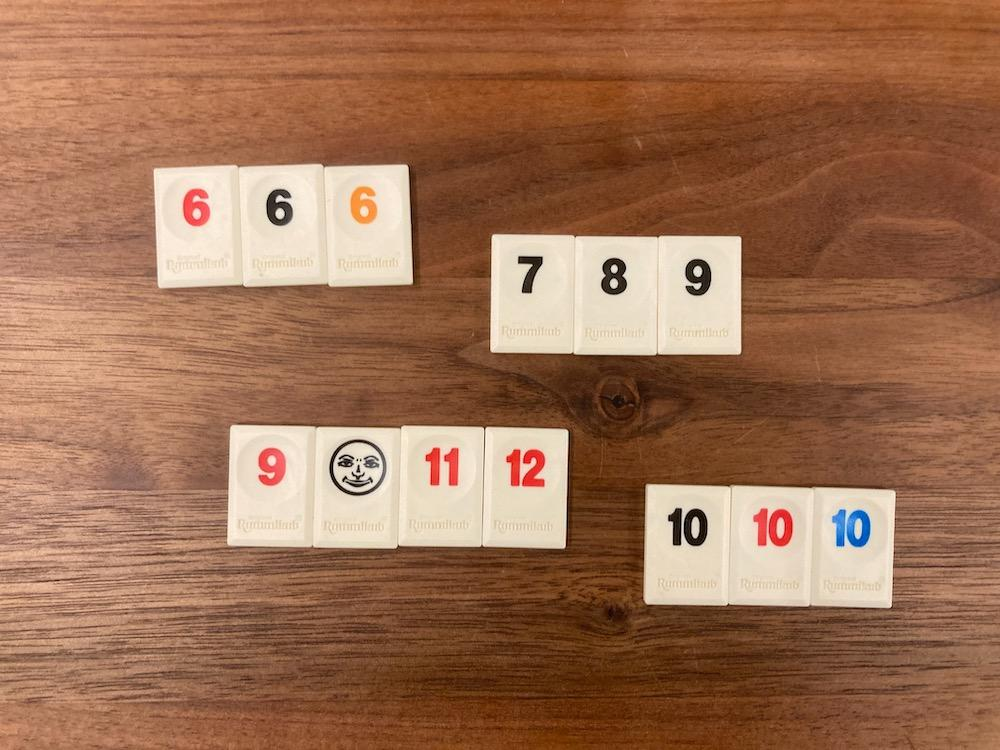black_10: (645, 484, 730, 605)
black_6: (240, 164, 328, 286)
black_7: (490, 234, 574, 354)
black_8: (574, 236, 658, 355)
black_9: (658, 236, 742, 354)
blue_10: (811, 488, 895, 607)
joker: (312, 428, 400, 549)
orange_6: (324, 164, 412, 287)
red_10: (729, 486, 812, 605)
red_11: (398, 426, 484, 547)
red_12: (482, 428, 568, 548)
red_6: (154, 166, 242, 288)
red_9: (229, 426, 314, 546)
